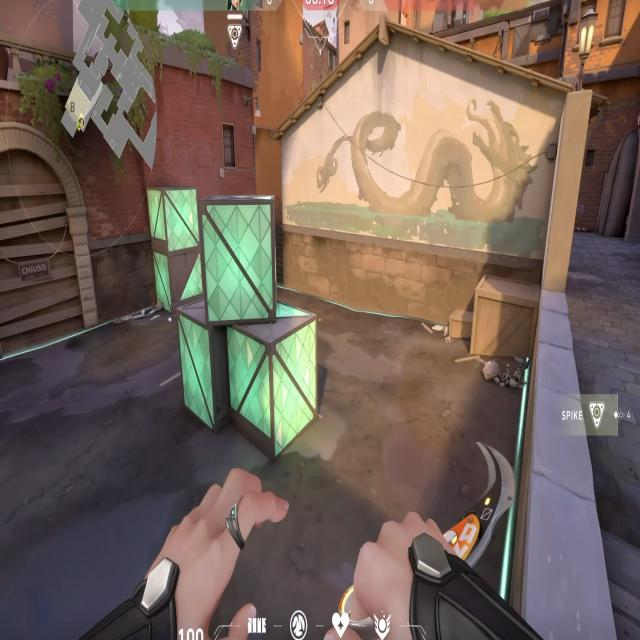B_Site_Box: (172, 169, 334, 472)
